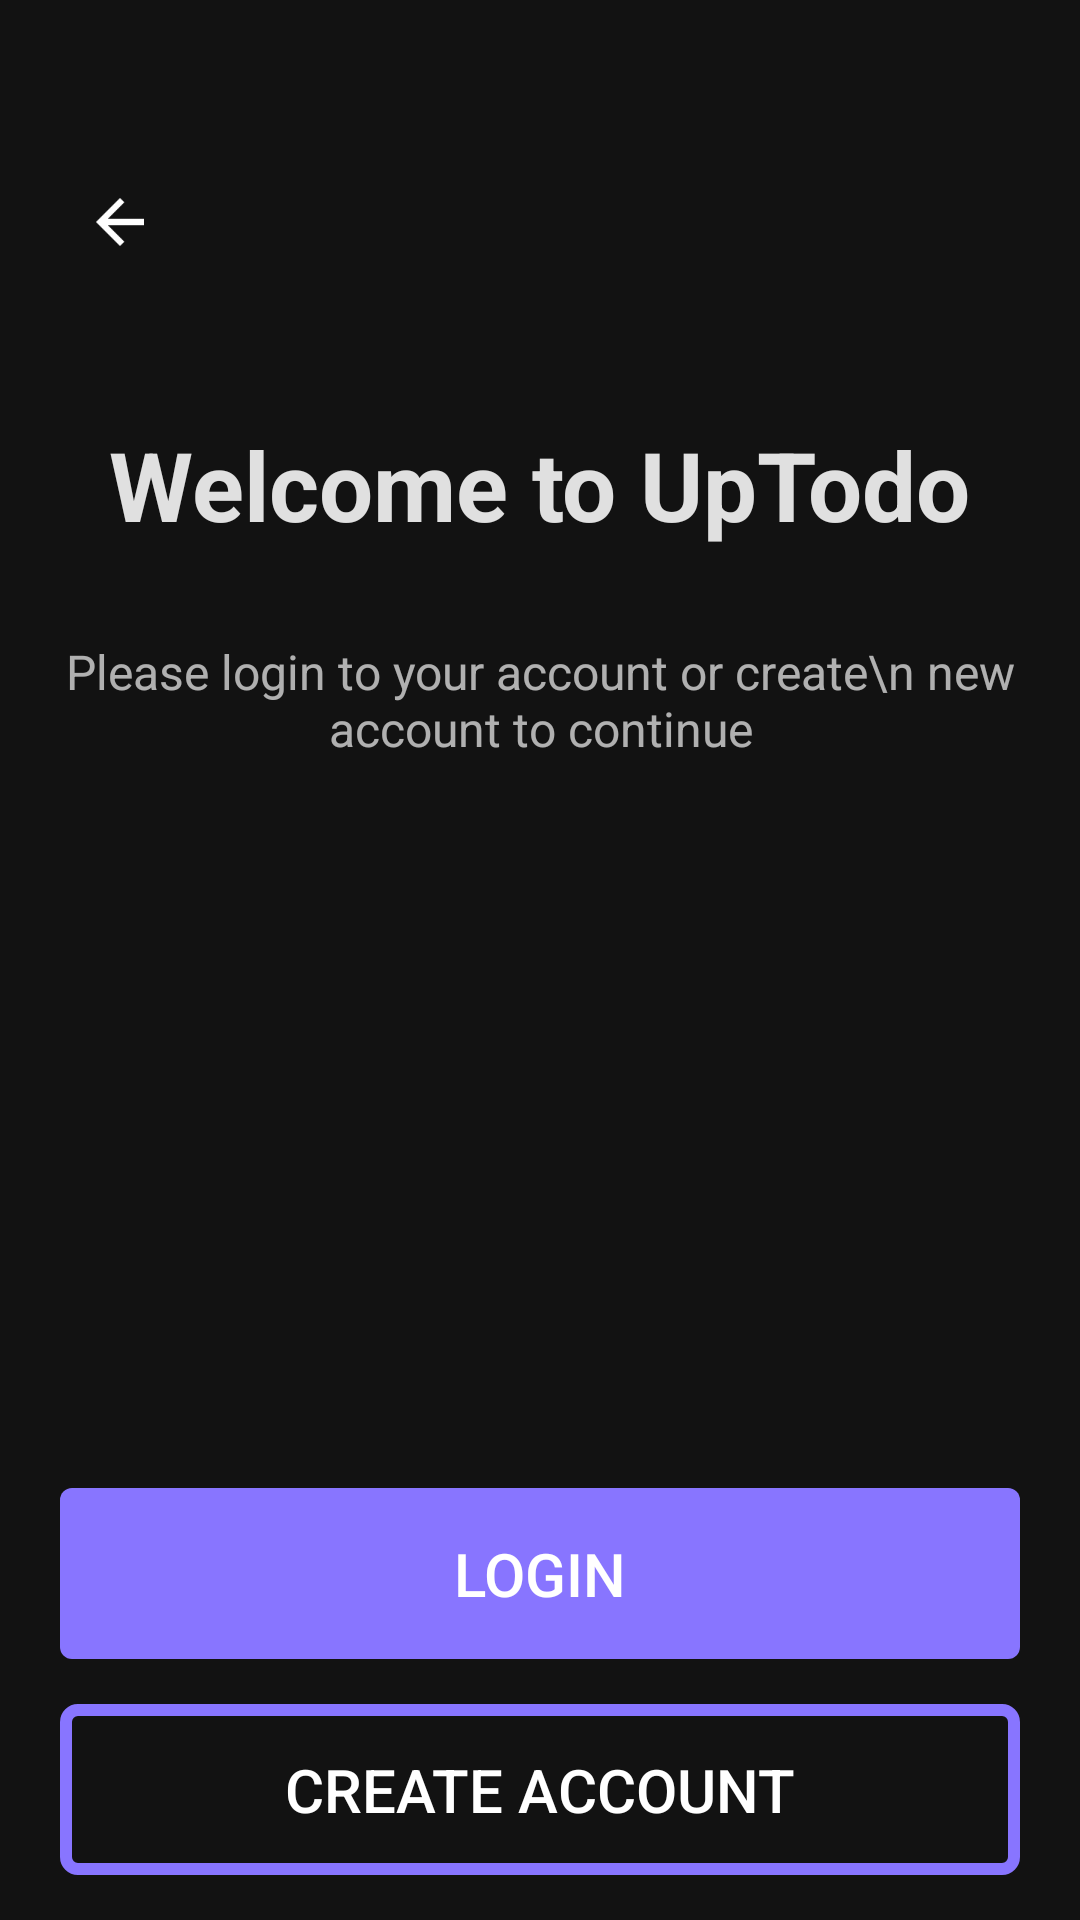

Named icons in this screenshot (1080px x 1920px) and their centers, point (x, y):
back: point (120, 222)
